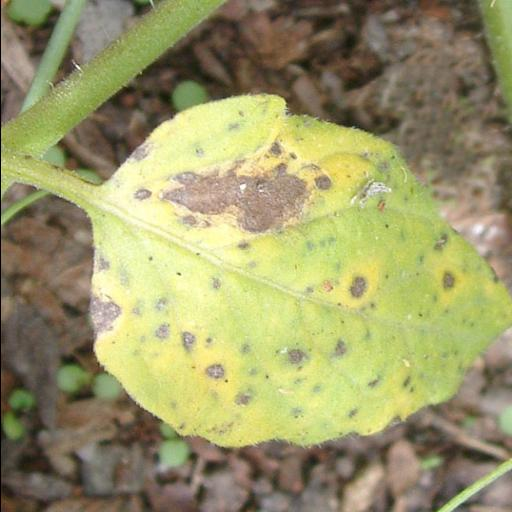Early Blight: (85, 95, 512, 447)
